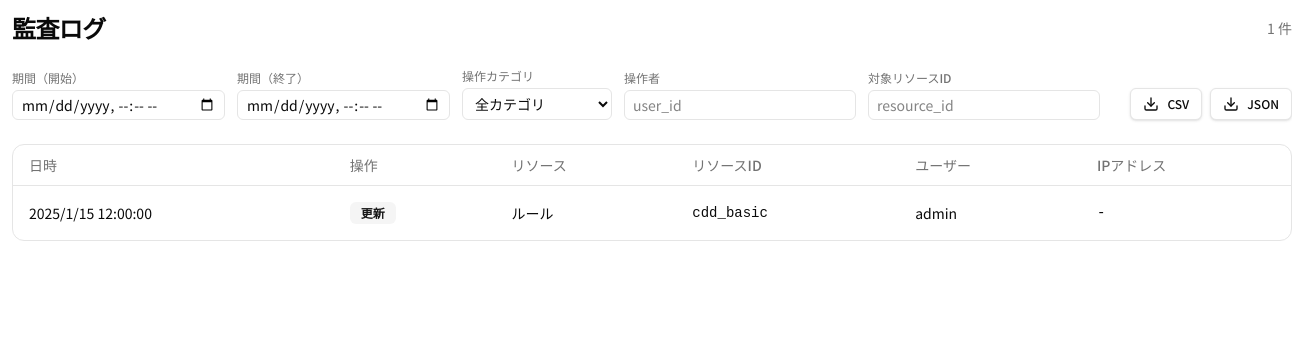
Test: renders diff view for rule changes
The width and height of the screenshot is (1304, 345).
Click the text "cdd_basic" at (730,212), box x1=676 y1=185 x2=899 y2=240
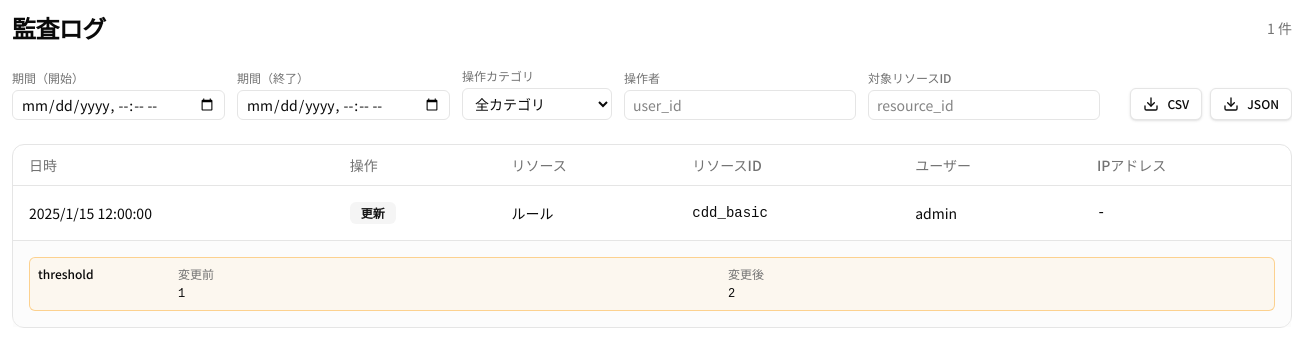
Expected: the text "threshold" is shown, x1=38 y1=264 x2=94 y2=282
Expected: the text "1" is shown, x1=178 y1=286 x2=185 y2=300
Expected: the text "2" is shown, x1=728 y1=286 x2=735 y2=300
